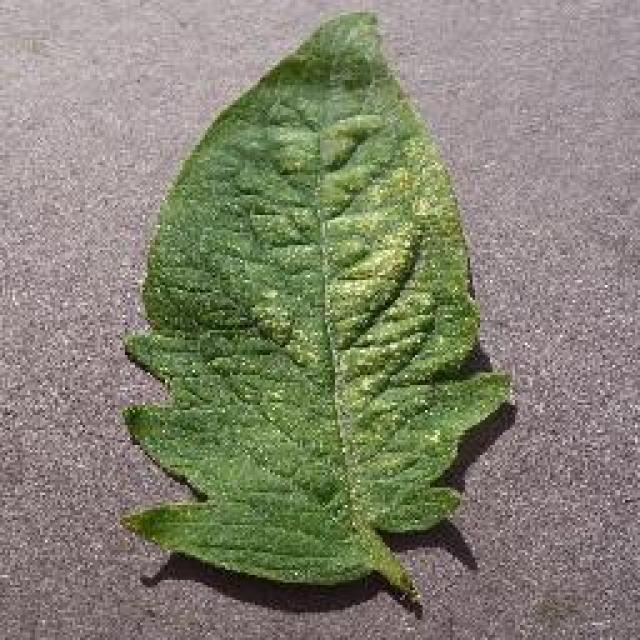Tomato mosaic virus leaf: (122, 9, 520, 591)
